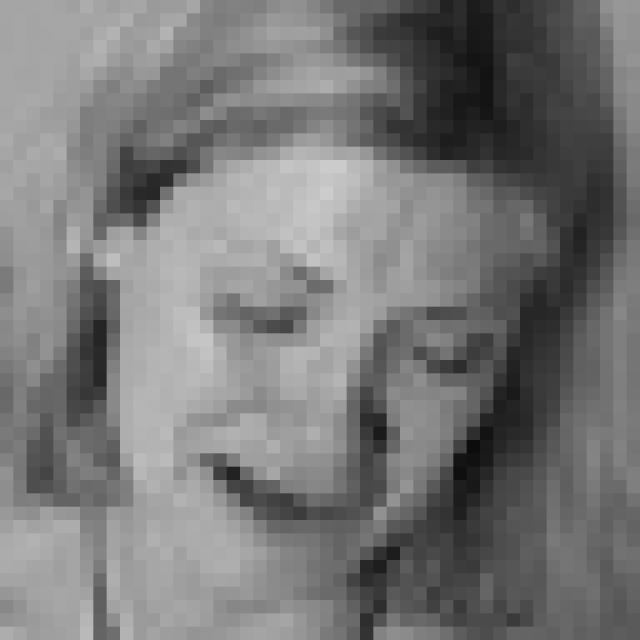sad: (195, 234, 508, 564)
